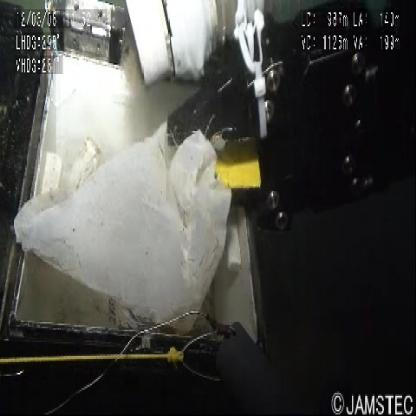Rov: (44, 2, 416, 226)
Rác: (12, 97, 244, 330)
